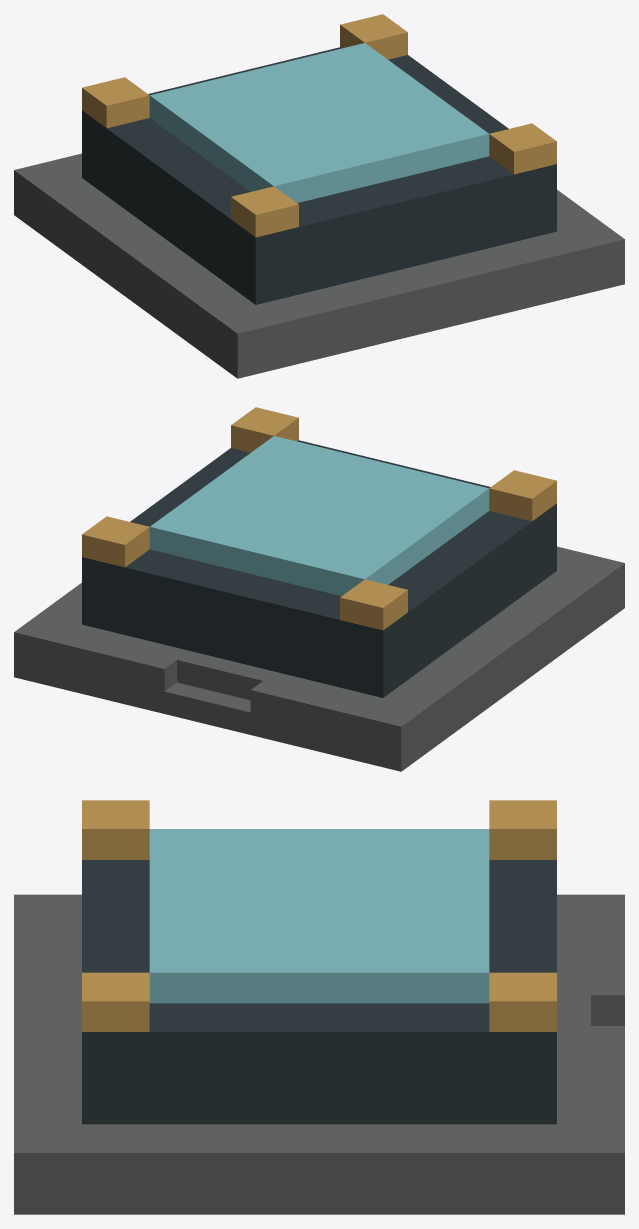
Rendered from BUILT-160.glb.
The picture shows the model from 3 angles, top to bottom: view 1: azimuth 30°, elevation 25°; view 2: azimuth 150°, elevation 25°; view 3: azimuth 270°, elevation 25°; orthographic projection. The views are drawn at different scales.
Visible parts, largest first — view 1: 既有跑道两侧青灯点; view 2: 既有跑道两侧青灯点; view 3: 既有跑道两侧青灯点.
Part boxes in pixels (x1,y1,x2,y2): 既有跑道两侧青灯点: (14, 14, 624, 378); 既有跑道两侧青灯点: (14, 407, 624, 771); 既有跑道两侧青灯点: (14, 800, 624, 1214).
Size of the model in its own units: 0.9 by 0.3 by 0.9.
5 materials, 5 textured.
